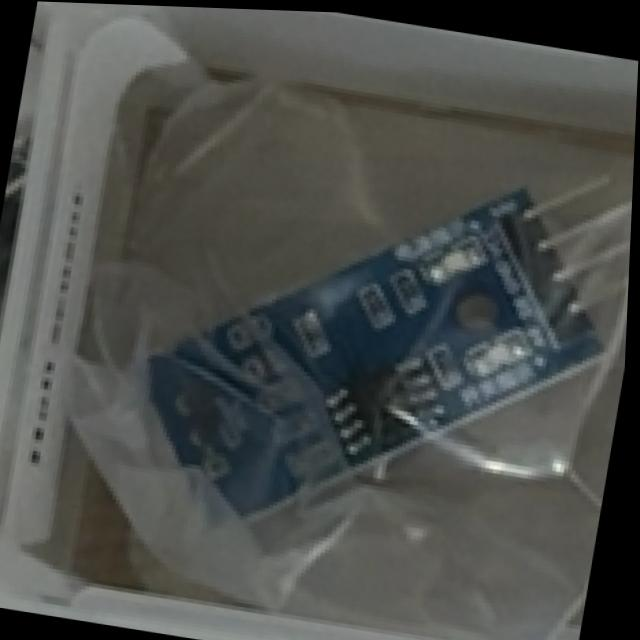Hall Sensor: (114, 69, 637, 592)
